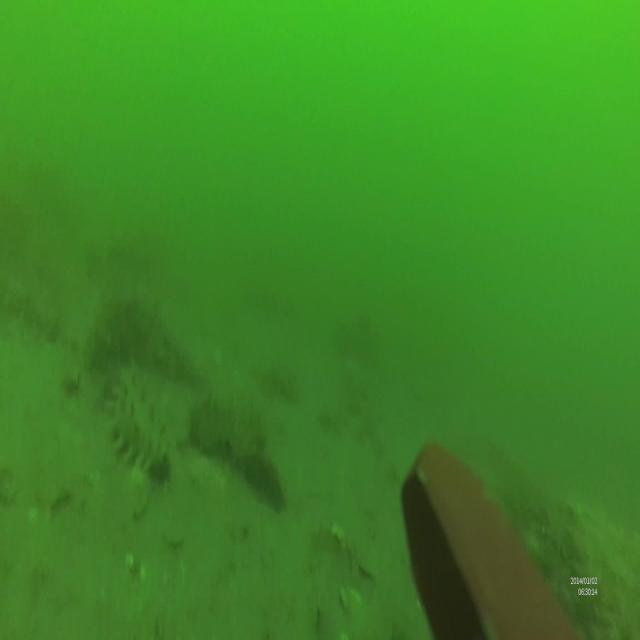holothurian: (101, 383, 168, 477)
